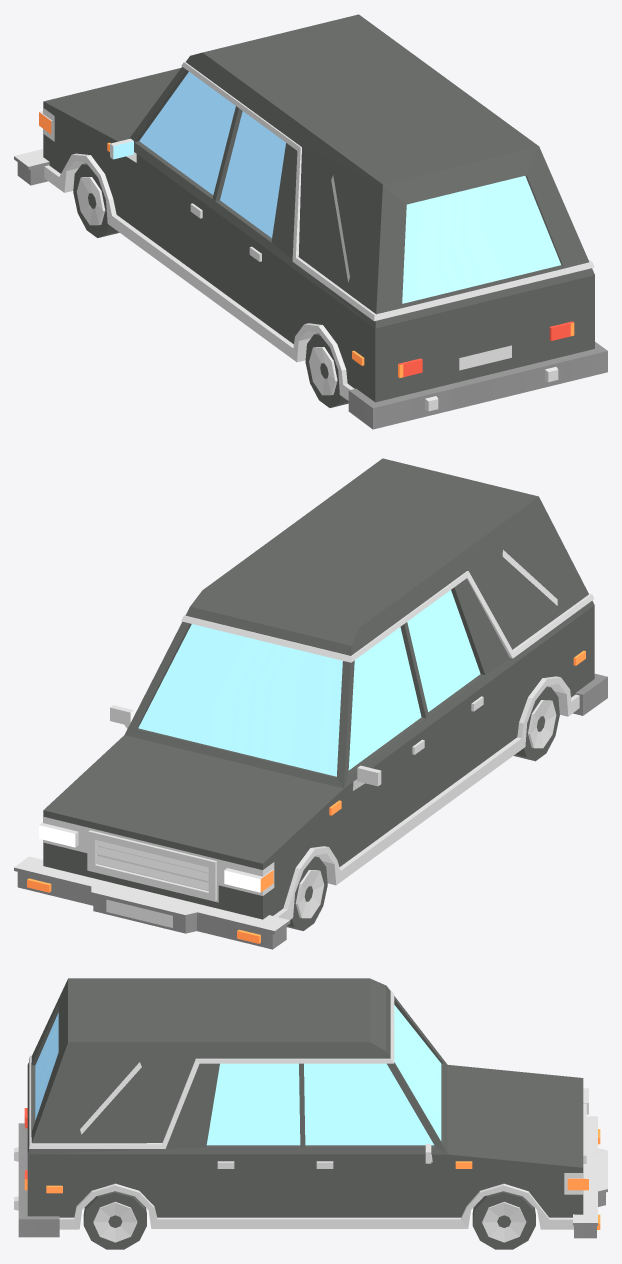
The model's file is transport_purpose_taxi.004.glb.
3 views of the same model, one above another, from view 1: azimuth 30°, elevation 25°; view 2: azimuth 150°, elevation 25°; view 3: azimuth 270°, elevation 25° (orthographic). The views are drawn at different scales.
Parts seen in each view (by area): view 1: transport_purpose.004(Clone); view 2: transport_purpose.004(Clone); view 3: transport_purpose.004(Clone).
Boxes of the visible parts, x1,y1,x2,y2 form: transport_purpose.004(Clone): (14,14,607,429); transport_purpose.004(Clone): (14,458,607,949); transport_purpose.004(Clone): (14,978,607,1249).
Bounding box in the file's own units: 1.83 × 1.52 × 4.19.
1 material, 1 textured.
